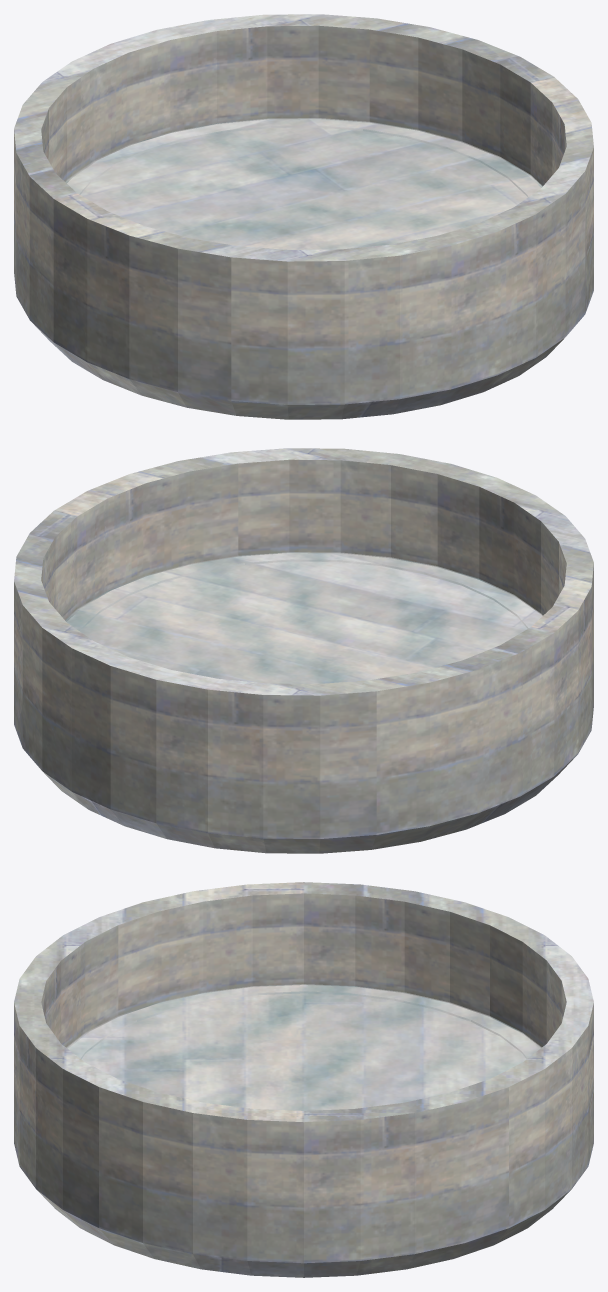
Rendered from batsya.obj.
3 renders of one model, top to bottom at view 1: azimuth 30°, elevation 25°; view 2: azimuth 150°, elevation 25°; view 3: azimuth 270°, elevation 25°, orthographic.
Visible parts, largest first — view 1: Meshesbowl2, Meshesbowl1; view 2: Meshesbowl2, Meshesbowl1; view 3: Meshesbowl2, Meshesbowl1.
Boxes of the visible parts, box(x1,y1,x2,y2) form: Meshesbowl2: box(14, 14, 593, 419); Meshesbowl1: box(65, 118, 542, 249); Meshesbowl2: box(14, 448, 593, 853); Meshesbowl1: box(65, 552, 542, 683); Meshesbowl2: box(14, 882, 593, 1277); Meshesbowl1: box(66, 984, 541, 1110).
Size of the model in its own units: 9.48 by 3.15 by 9.68.
Materials: 2 (2 with a texture image).
